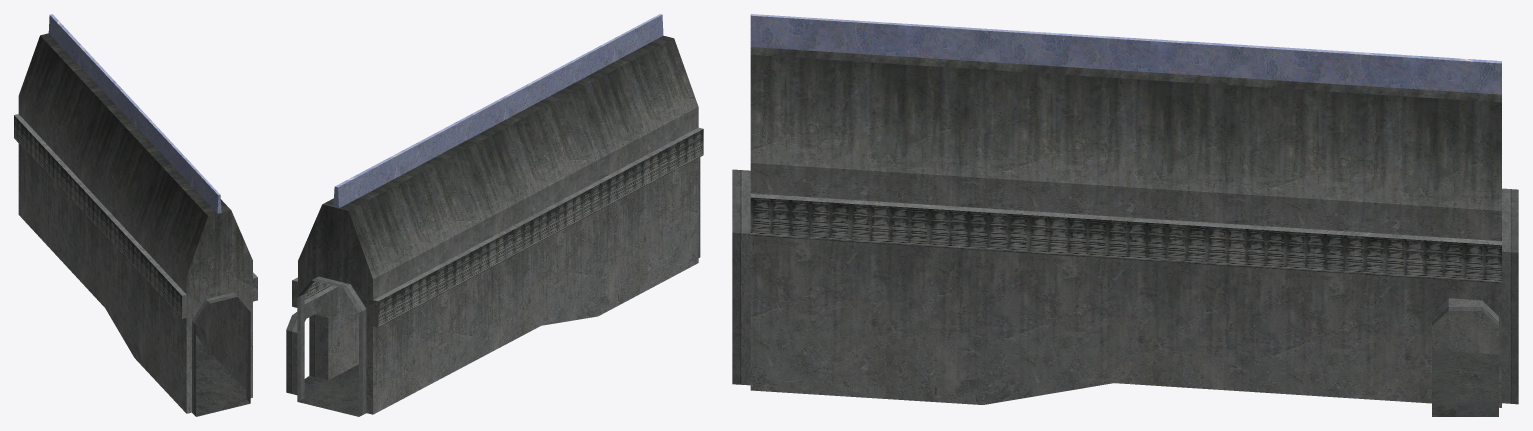
File: thm_yavn_jedi_enclave_dark_r19_hallwayb2_mesh.fbx
3 views of the same model, side by side, from view 1: azimuth 30°, elevation 25°; view 2: azimuth 150°, elevation 25°; view 3: azimuth 270°, elevation 25° (orthographic). The views are drawn at different scales.
Parts seen in each view (by area): view 1: mesh_node; view 2: mesh_node; view 3: mesh_node.
Part boxes in pixels (<box>): mesh_node: <box>14,14,257,416</box>; mesh_node: <box>286,14,703,416</box>; mesh_node: <box>732,14,1518,416</box>.
Size of the model in its own units: 8.06 by 11.5 by 23.5.
